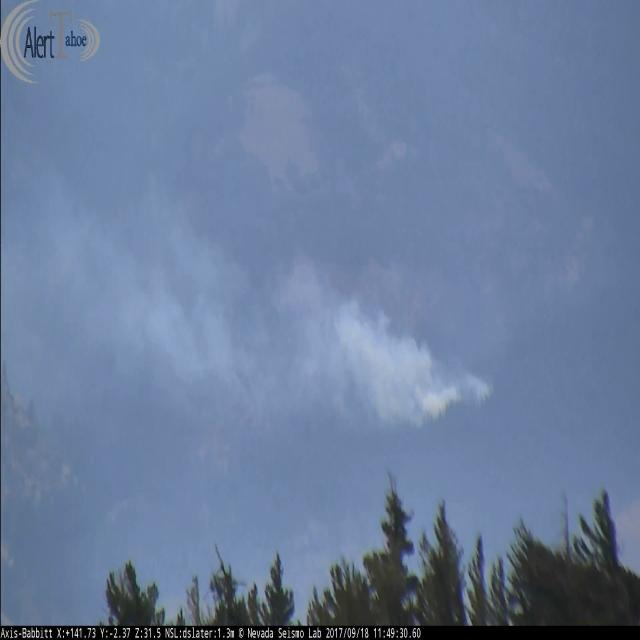smoke: (123, 188, 490, 426)
